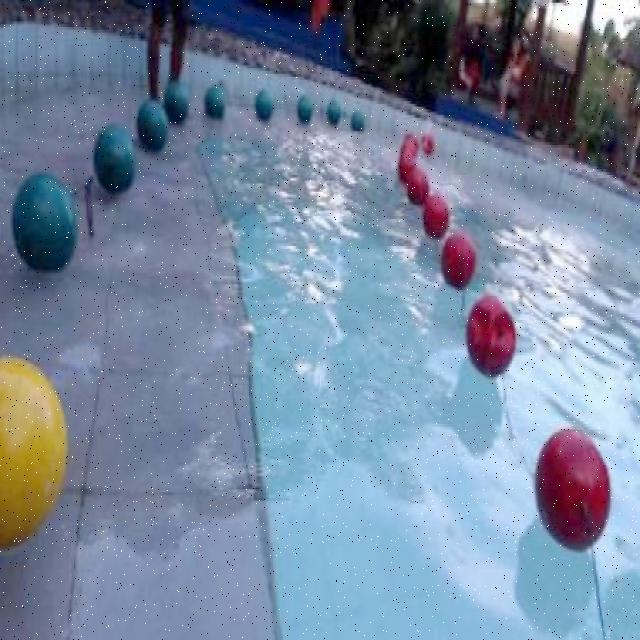buoy: (0, 354, 68, 549), (532, 426, 610, 552), (9, 170, 78, 274), (463, 291, 515, 376), (93, 123, 135, 194), (439, 229, 474, 290), (135, 98, 167, 148), (421, 192, 449, 240), (162, 78, 189, 124), (406, 167, 427, 206), (203, 83, 225, 119), (253, 88, 273, 120), (396, 151, 416, 183), (295, 92, 311, 122), (349, 108, 365, 132), (327, 99, 341, 126)
